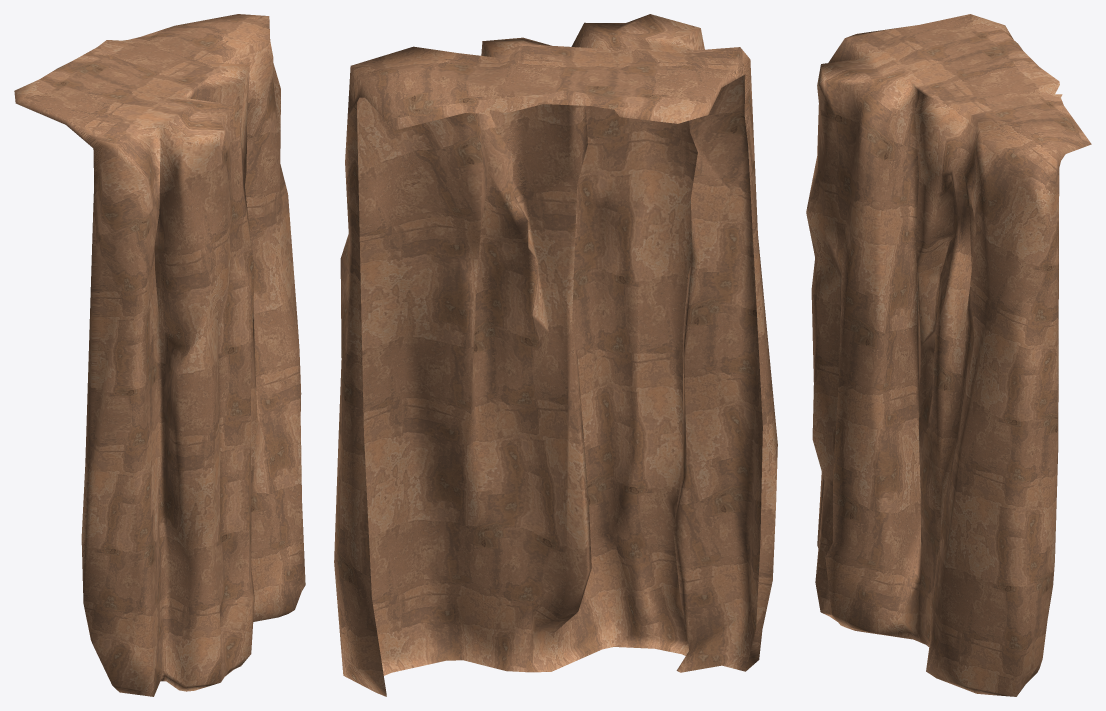
File: Ob_RockCliff.fbx
The picture shows the model from 3 angles, left to right: view 1: azimuth 30°, elevation 25°; view 2: azimuth 150°, elevation 25°; view 3: azimuth 270°, elevation 25°; orthographic projection. The views are drawn at different scales.
Parts seen in each view (by area): view 1: Ob_RockCliff.012; view 2: Ob_RockCliff.012; view 3: Ob_RockCliff.012.
Boxes of the visible parts, x1=… form: Ob_RockCliff.012: x1=14, y1=14, x2=305, y2=696; Ob_RockCliff.012: x1=334, y1=14, x2=777, y2=696; Ob_RockCliff.012: x1=806, y1=14, x2=1091, y2=696.
Size of the model in its own units: 35441 by 63253 by 29735.
